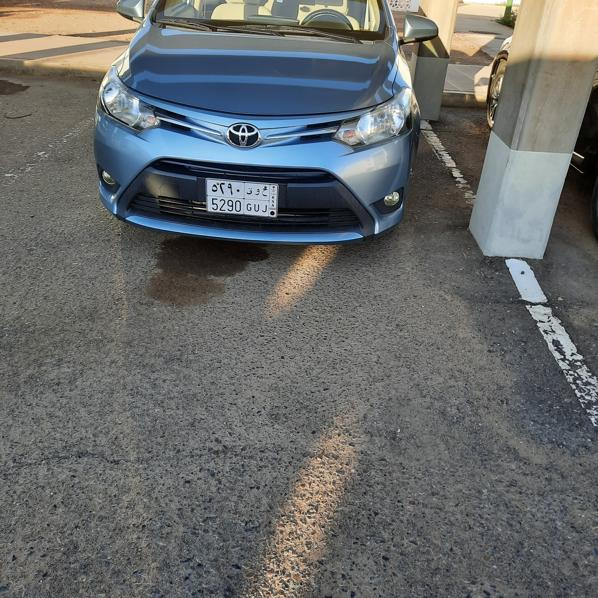numberplate: (206, 179, 277, 216)
